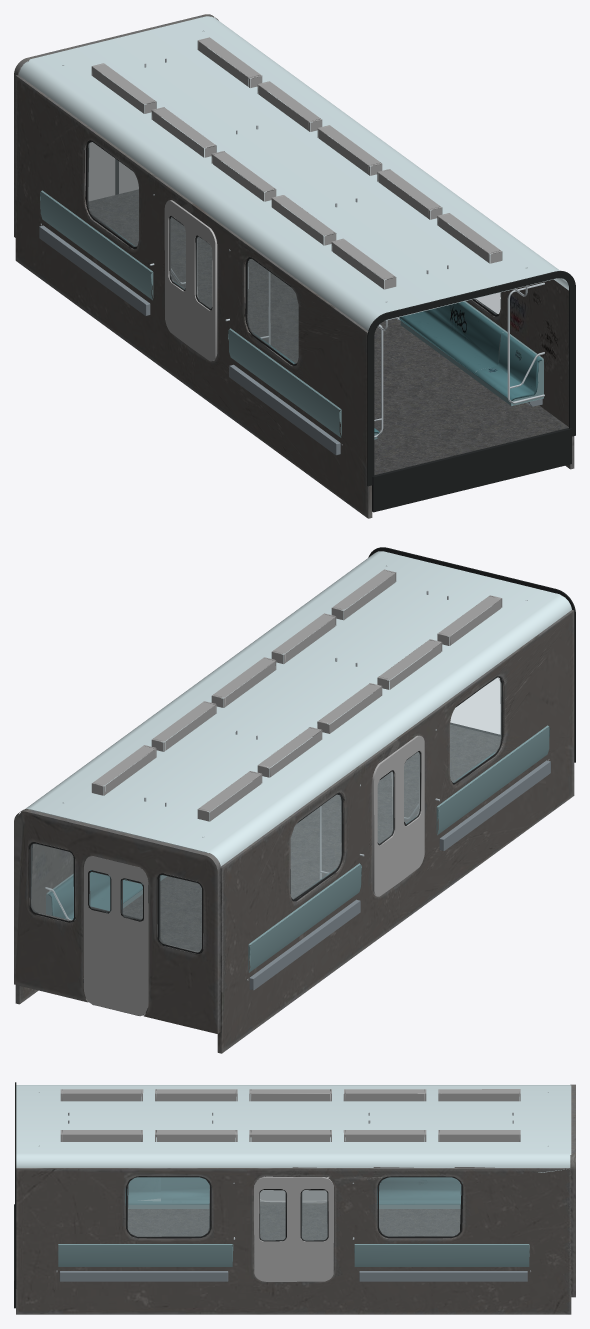
Rendered from train-car.glb.
3 views of the same model, one above another, from view 1: azimuth 30°, elevation 25°; view 2: azimuth 150°, elevation 25°; view 3: azimuth 270°, elevation 25° (orthographic). The views are drawn at different scales.
Visible parts, largest first — view 1: Roof_roof_0, Back_Wall_Back_Wall_walls_0, floor_tex_floor_0, Lamps_holder_metal_0, Cart_divider_divider_0, glass_backdoor_glass_0, Bench_Sides_benchinside_0, back_door_1__0, Bench_top_Textured_bench_0, Bench_underneath_bench_under_0, Cylinder_1_Bars_0, back_door_Rubber_rubber_0; view 2: Back_Wall_Back_Wall_walls_0, Roof_roof_0, glass_backdoor_glass_0, back_door_1__0, Lamps_holder_metal_0, floor_tex_floor_0, Bench_Sides_benchinside_0, Bench_underneath_bench_under_0, back_door_Rubber_rubber_0, Bench_top_Textured_bench_0, Cart_divider_divider_0; view 3: Back_Wall_Back_Wall_walls_0, Roof_roof_0, glass_backdoor_glass_0, Lamps_holder_metal_0, Bench_Sides_benchinside_0, floor_tex_floor_0, back_door_1__0, Bench_top_Textured_bench_0, Bench_underneath_bench_under_0, back_door_Rubber_rubber_0, Cart_divider_divider_0.
Boxes of the visible parts, left/top/right/bottom form: Roof_roof_0: left=19, top=16, right=568, bottom=330; Back_Wall_Back_Wall_walls_0: left=14, top=14, right=574, bottom=518; floor_tex_floor_0: left=89, top=189, right=568, bottom=475; Lamps_holder_metal_0: left=91, top=37, right=502, bottom=289; Cart_divider_divider_0: left=367, top=270, right=575, bottom=512; glass_backdoor_glass_0: left=88, top=142, right=500, bottom=363; Bench_Sides_benchinside_0: left=40, top=190, right=543, bottom=439; back_door_1__0: left=88, top=142, right=217, bottom=361; Bench_top_Textured_bench_0: left=109, top=227, right=541, bottom=433; Bench_underneath_bench_under_0: left=39, top=225, right=542, bottom=455; Cylinder_1_Bars_0: left=40, top=30, right=544, bottom=445; back_door_Rubber_rubber_0: left=86, top=140, right=500, bottom=365; Back_Wall_Back_Wall_walls_0: left=14, top=610, right=574, bottom=1053; Roof_roof_0: left=25, top=551, right=571, bottom=868; glass_backdoor_glass_0: left=31, top=678, right=501, bottom=951; back_door_1__0: left=83, top=735, right=424, bottom=1016; Lamps_holder_metal_0: left=91, top=569, right=502, bottom=821; floor_tex_floor_0: left=83, top=724, right=500, bottom=982; Bench_Sides_benchinside_0: left=46, top=725, right=550, bottom=972; Bench_underneath_bench_under_0: left=249, top=760, right=550, bottom=990; back_door_Rubber_rubber_0: left=29, top=676, right=503, bottom=1015; Bench_top_Textured_bench_0: left=48, top=751, right=495, bottom=919; Cart_divider_divider_0: left=368, top=547, right=575, bottom=762; Back_Wall_Back_Wall_walls_0: left=16, top=1084, right=575, bottom=1314; Roof_roof_0: left=16, top=1085, right=571, bottom=1172; glass_backdoor_glass_0: left=128, top=1177, right=460, bottom=1240; Lamps_holder_metal_0: left=60, top=1089, right=520, bottom=1141; Bench_Sides_benchinside_0: left=57, top=1198, right=529, bottom=1266; floor_tex_floor_0: left=127, top=1204, right=460, bottom=1269; back_door_1__0: left=254, top=1176, right=333, bottom=1281; Bench_top_Textured_bench_0: left=125, top=1177, right=462, bottom=1204; Bench_underneath_bench_under_0: left=59, top=1271, right=527, bottom=1281; back_door_Rubber_rubber_0: left=126, top=1176, right=462, bottom=1241; Cart_divider_divider_0: left=14, top=1082, right=16, bottom=1308.
Size of the model in its own units: 52.75 by 48.7 by 152.
Materials: 14 (3 with a texture image).
